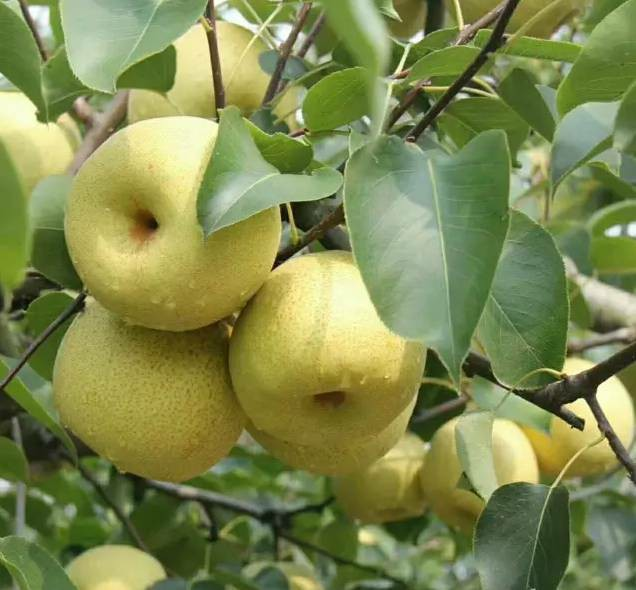pear: (62, 116, 280, 333), (231, 251, 428, 444), (52, 289, 246, 480), (243, 313, 417, 480), (124, 19, 295, 157), (519, 355, 636, 473), (424, 408, 538, 527), (1, 89, 84, 237), (329, 421, 431, 525), (57, 543, 171, 590)
